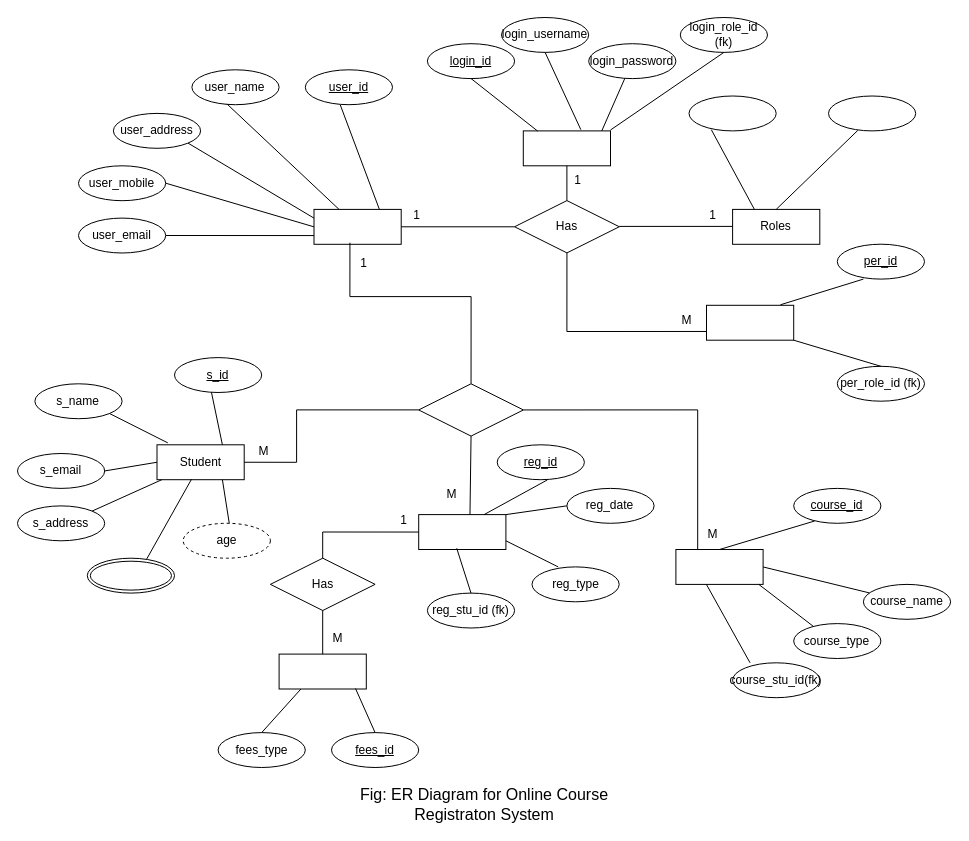
Image size: 969x841. Some labels were removed from this diagram. The box of each missing label's shape, as (x1, y1, x2, y2) in pixels:
Course: (675, 548, 763, 584)
Fees: (278, 653, 366, 689)
Login: (522, 130, 610, 166)
Manage: (418, 383, 523, 436)
Permission: (706, 304, 794, 340)
Registration: (418, 514, 506, 550)
role_id: (688, 95, 776, 131)
role_name: (828, 95, 916, 131)
s_number: (86, 557, 174, 593)
User: (313, 208, 401, 244)
